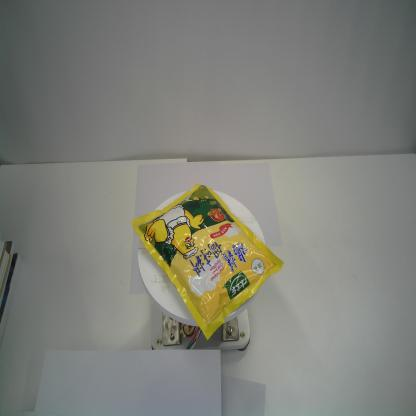Seasoner: (129, 181, 285, 340)
